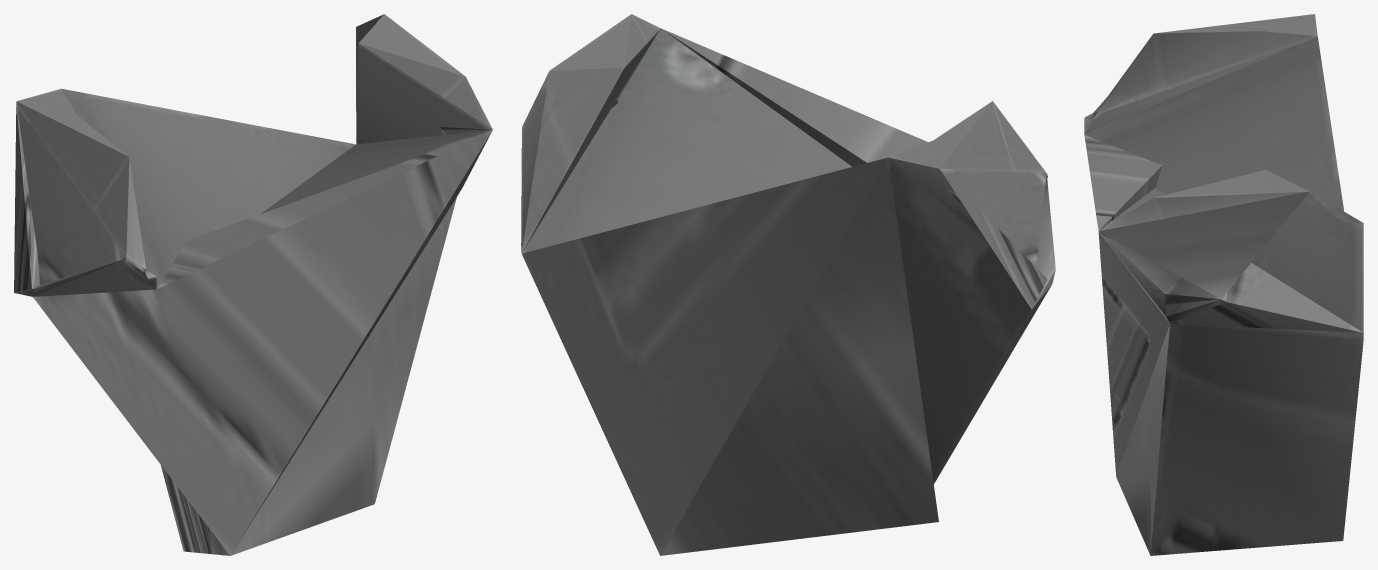
Rendered from shared_flak_tower_compact_option__radar_azimuth_yoke_lod2.glb.
3 views of the same model, side by side, from view 1: azimuth 30°, elevation 25°; view 2: azimuth 150°, elevation 25°; view 3: azimuth 270°, elevation 25° (orthographic). The views are drawn at different scales.
Parts seen in each view (by area): view 1: mesh_node; view 2: mesh_node; view 3: mesh_node.
Boxes of the visible parts, box(x1,y1,x2,y2) form: mesh_node: box(14, 14, 492, 555); mesh_node: box(521, 14, 1055, 555); mesh_node: box(1084, 14, 1363, 555).
Size of the model in its own units: 0.5919 by 0.5182 by 0.3214.
1 material, 1 textured.
